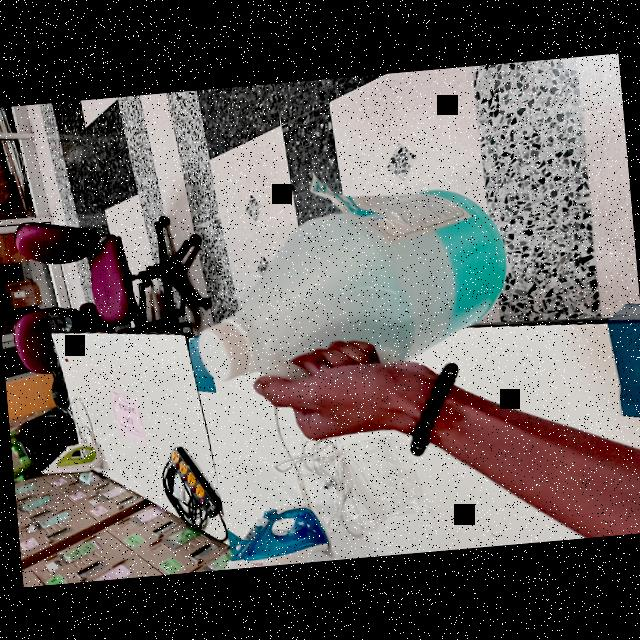chemical_plastic_gallon: (177, 142, 516, 432)
